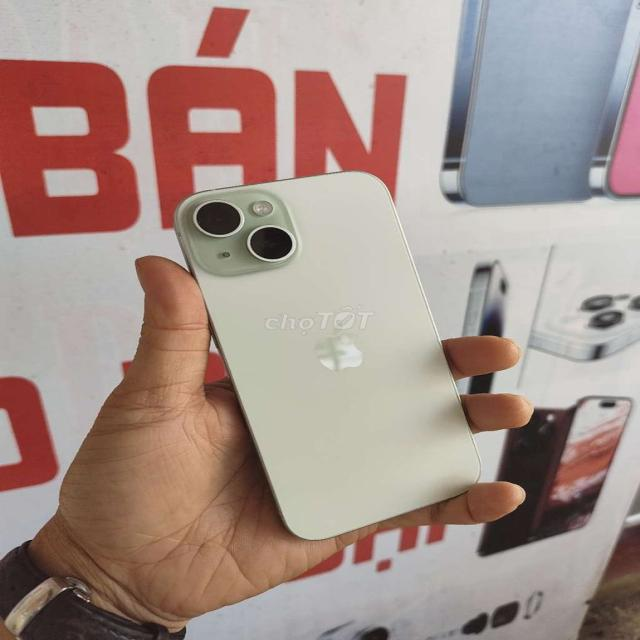gen_15: (168, 168, 508, 540)
